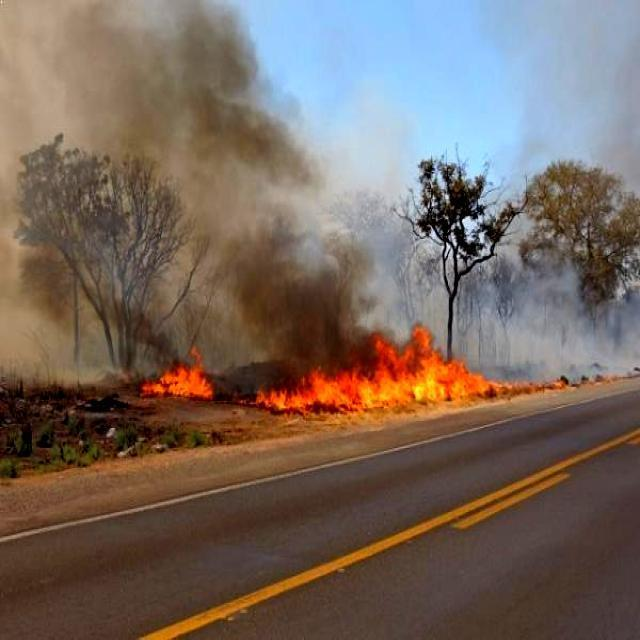Fire: (260, 339, 528, 404), (143, 354, 220, 409)
Smoke: (0, 0, 377, 370), (487, 256, 640, 388)
